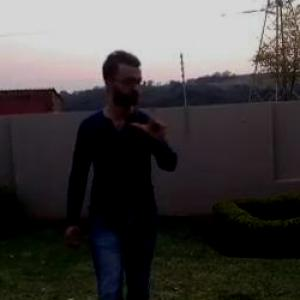land_hand: (125, 87, 166, 142)
